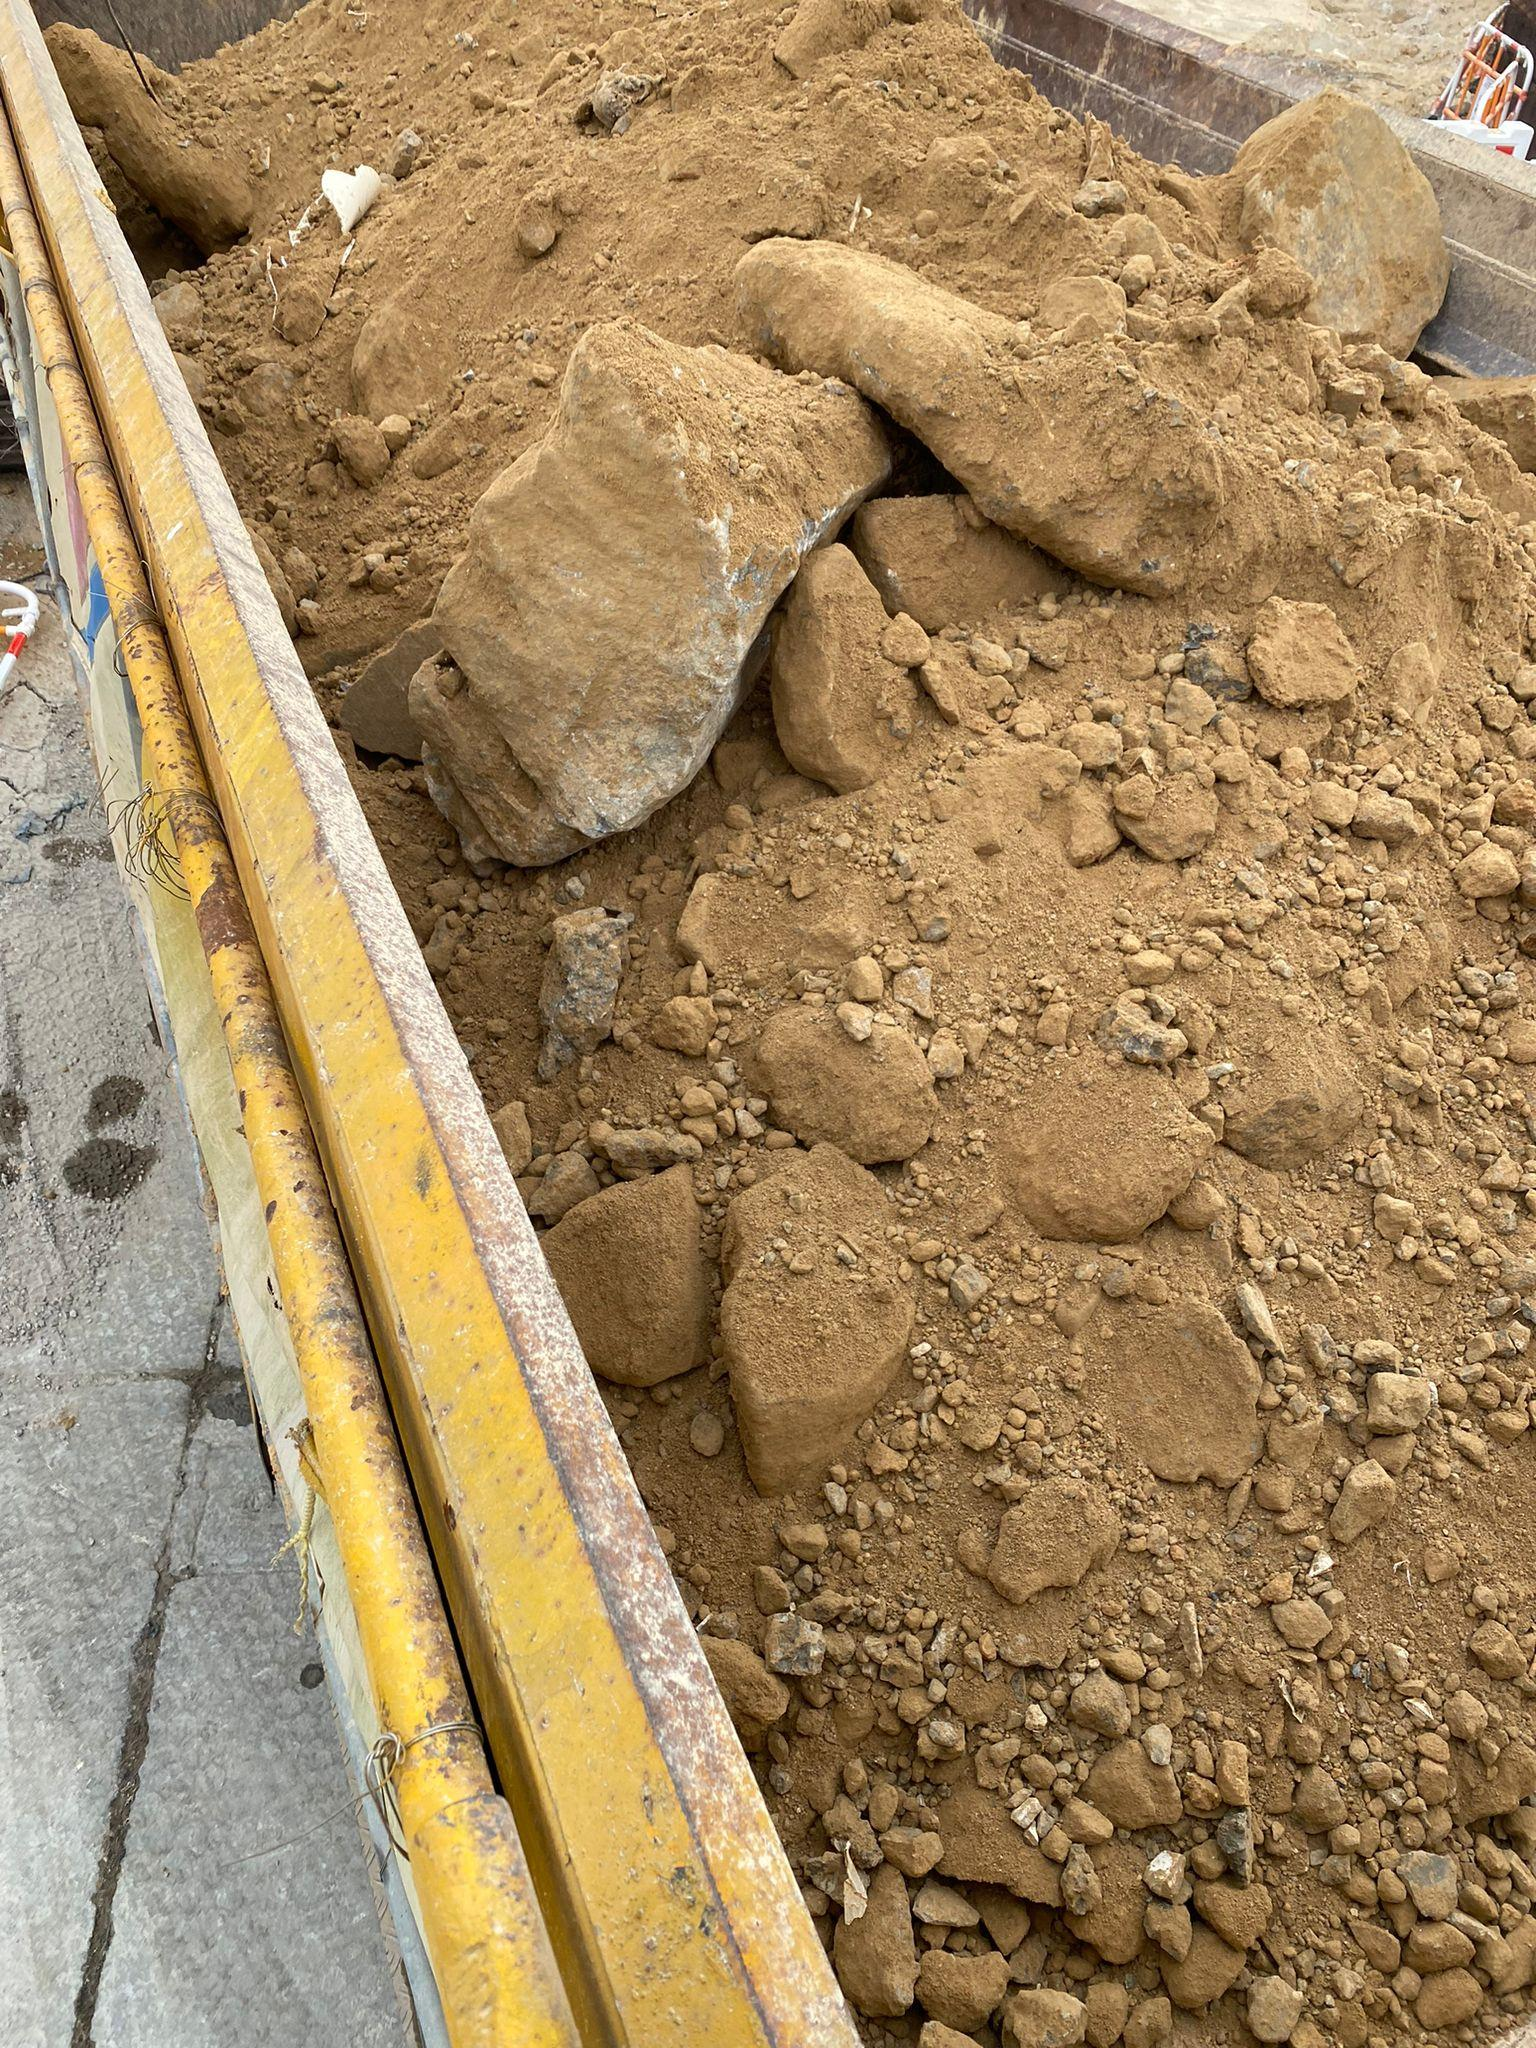dry: (44, 16, 1536, 2048)
